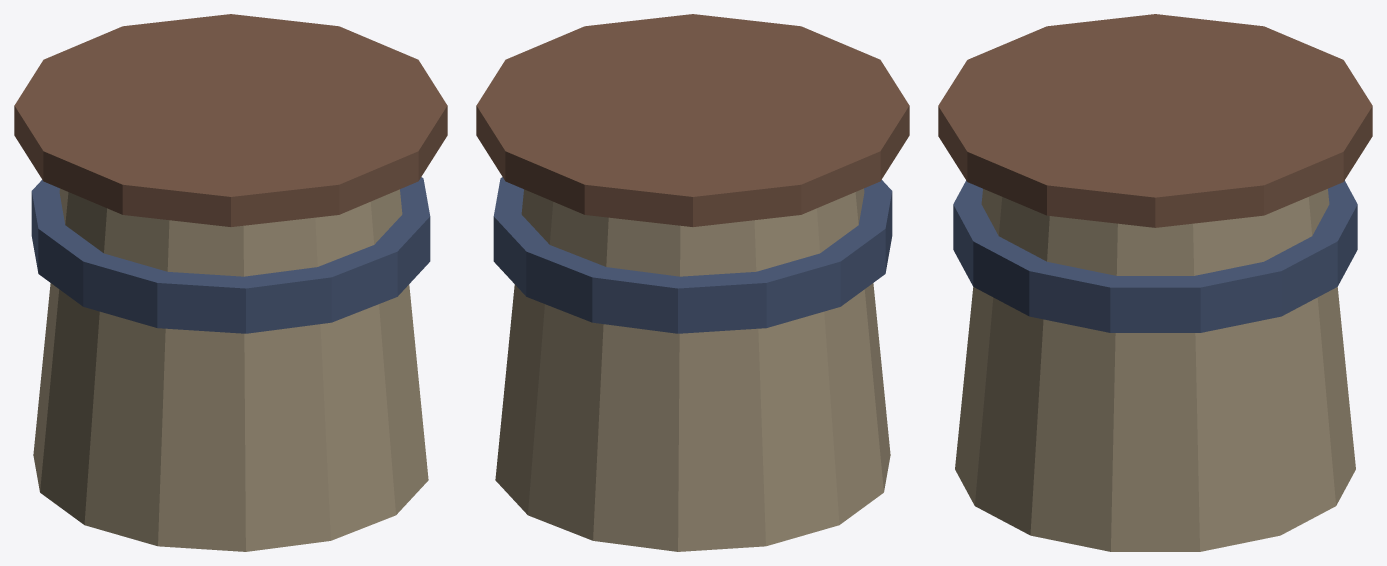
File: TownFind_cellar.glb
3 renders of one model, left to right at view 1: azimuth 30°, elevation 25°; view 2: azimuth 150°, elevation 25°; view 3: azimuth 270°, elevation 25°, orthographic.
Visible parts, largest first — view 1: TownFind_cellar.001; view 2: TownFind_cellar.001; view 3: TownFind_cellar.001.
Part boxes in pixels (left/top/right/bottom): TownFind_cellar.001: left=14, top=14, right=447, bottom=551; TownFind_cellar.001: left=476, top=14, right=909, bottom=551; TownFind_cellar.001: left=938, top=14, right=1372, bottom=551.
Bounding box in the file's own units: 0.26 × 0.24 × 0.26.
